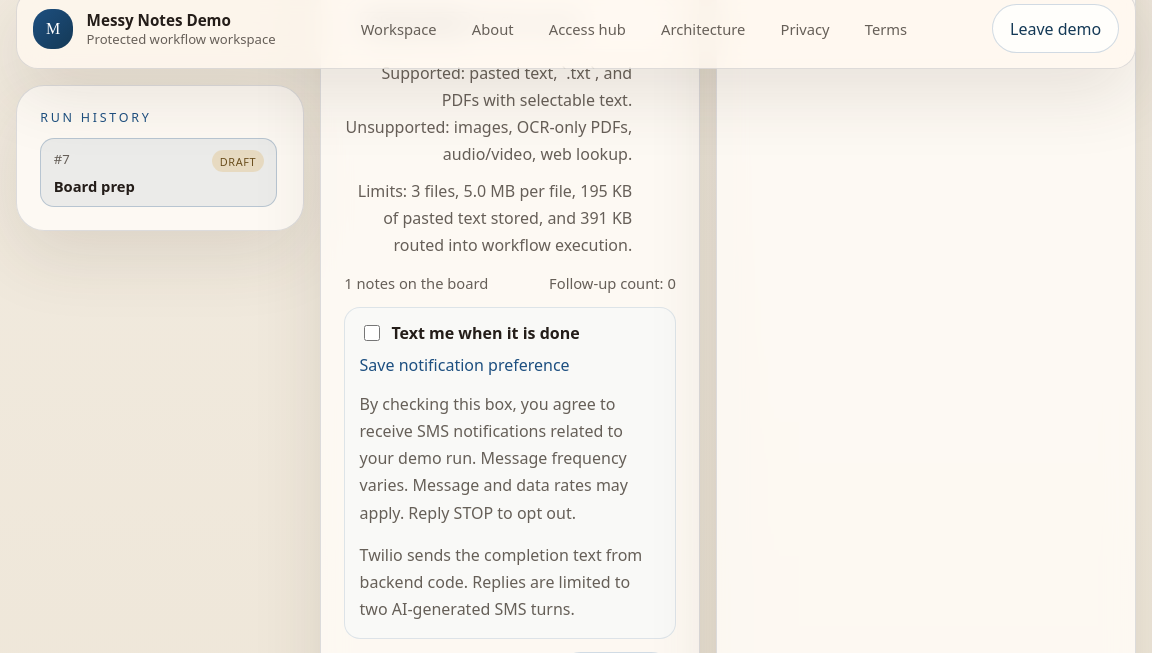
MessyNotesRunPage › saves notification preference automatically when saving a draft
The width and height of the screenshot is (1152, 653).
(page scrolled)
Click the checkbox labelled "Text me when it is done". click: (372, 333)
box: left=364, top=325, right=380, bottom=341
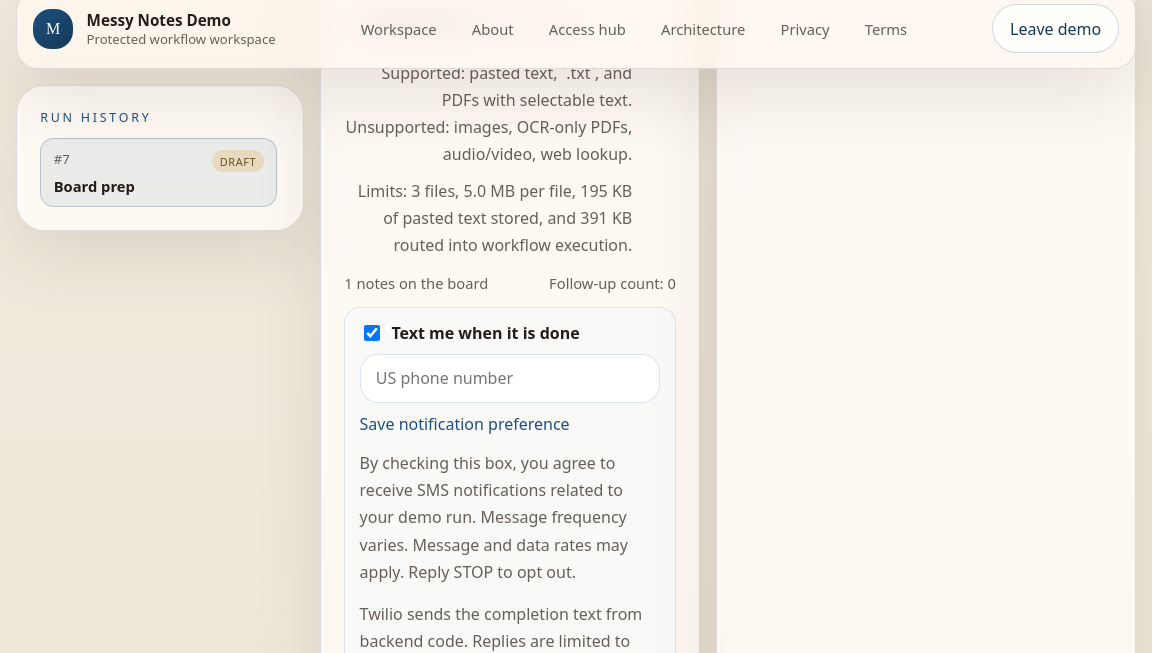
Type "(415) 555-0134" into the field labelled "US phone number". click: (510, 378)
box: left=360, top=354, right=660, bottom=403
(page scrolled)
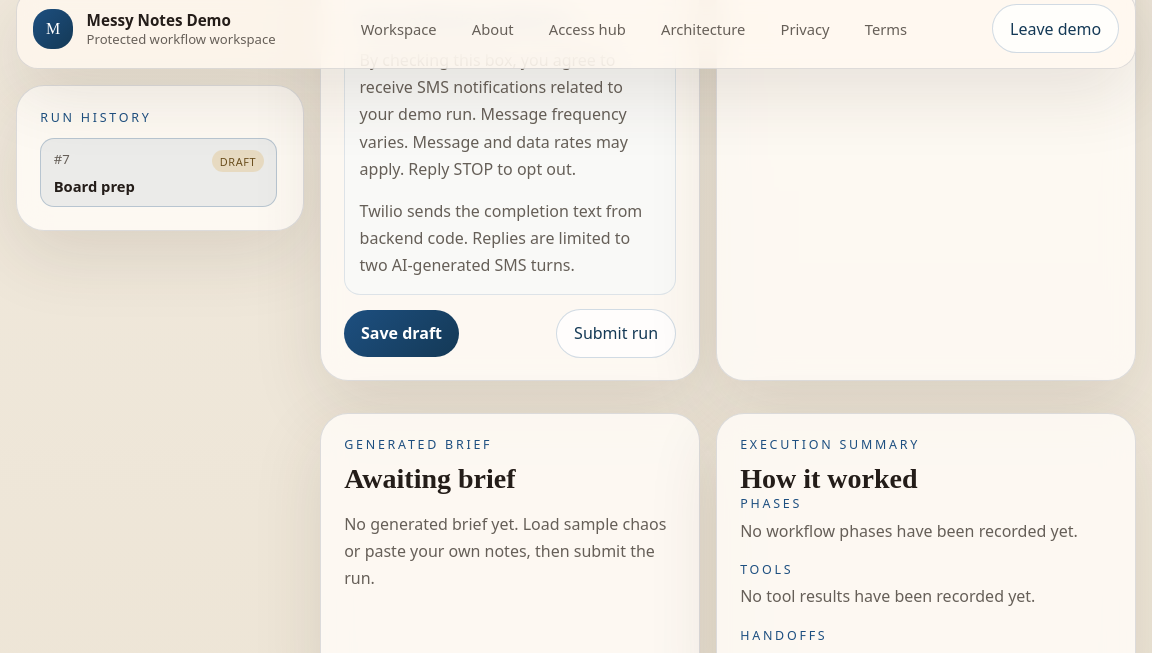
Click the button "Save draft". click: (402, 333)
box: left=344, top=310, right=459, bottom=357
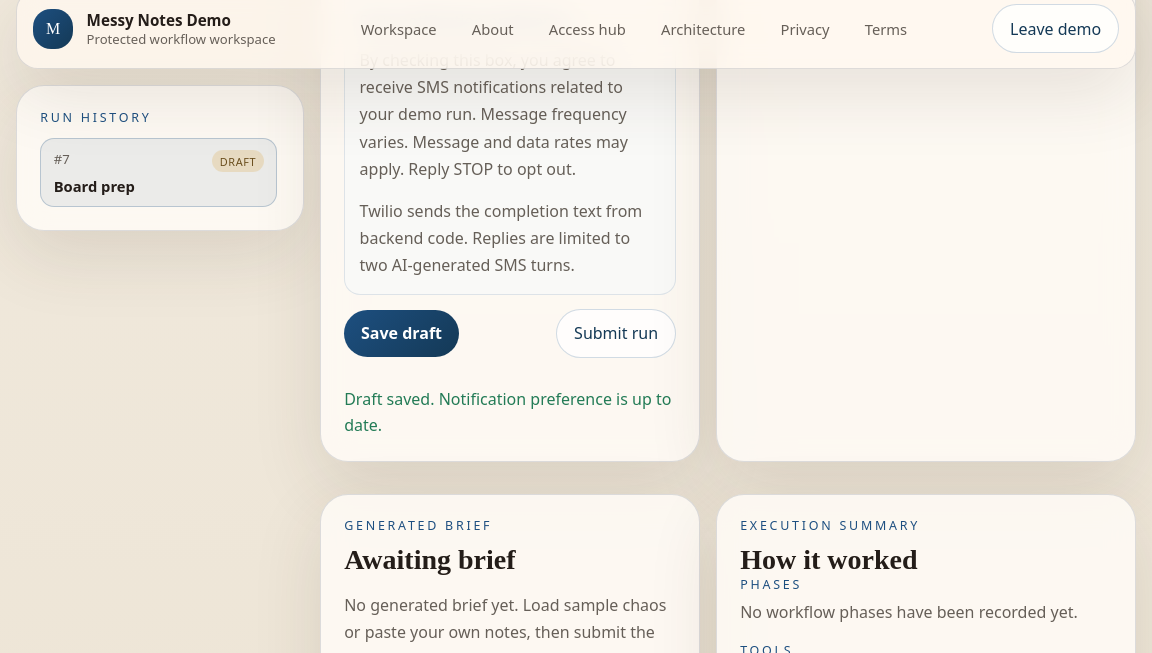
Expected: the text "Draft saved. Notification preference is up to date." is shown, left=344, top=387, right=676, bottom=438
